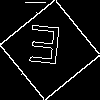E: (25, 25, 63, 73)
